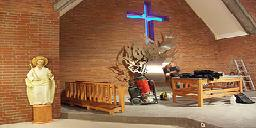LED: (127, 1, 167, 43)
